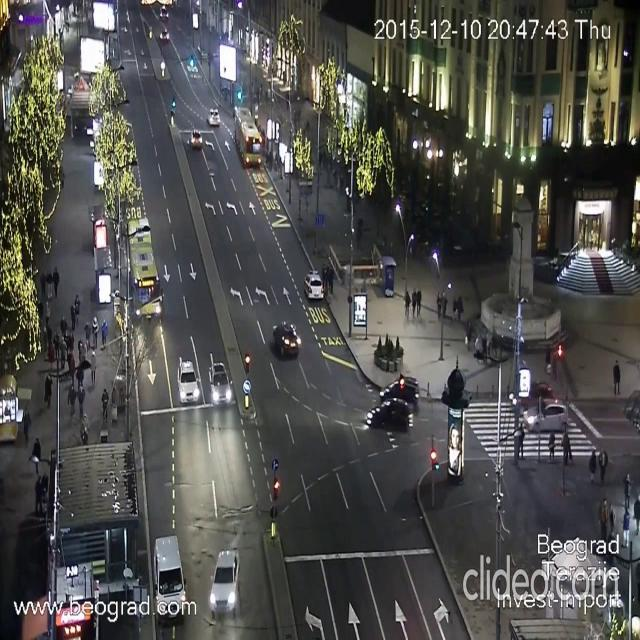bus: (124, 210, 162, 316), (232, 105, 262, 169)
car: (153, 536, 188, 614), (208, 548, 240, 618), (522, 398, 570, 428), (366, 400, 412, 426), (176, 356, 200, 404), (272, 320, 302, 357), (508, 384, 554, 408), (208, 360, 232, 404), (381, 377, 421, 399), (303, 270, 324, 300), (189, 128, 203, 148), (206, 108, 220, 126), (159, 8, 169, 23), (158, 30, 167, 39)
